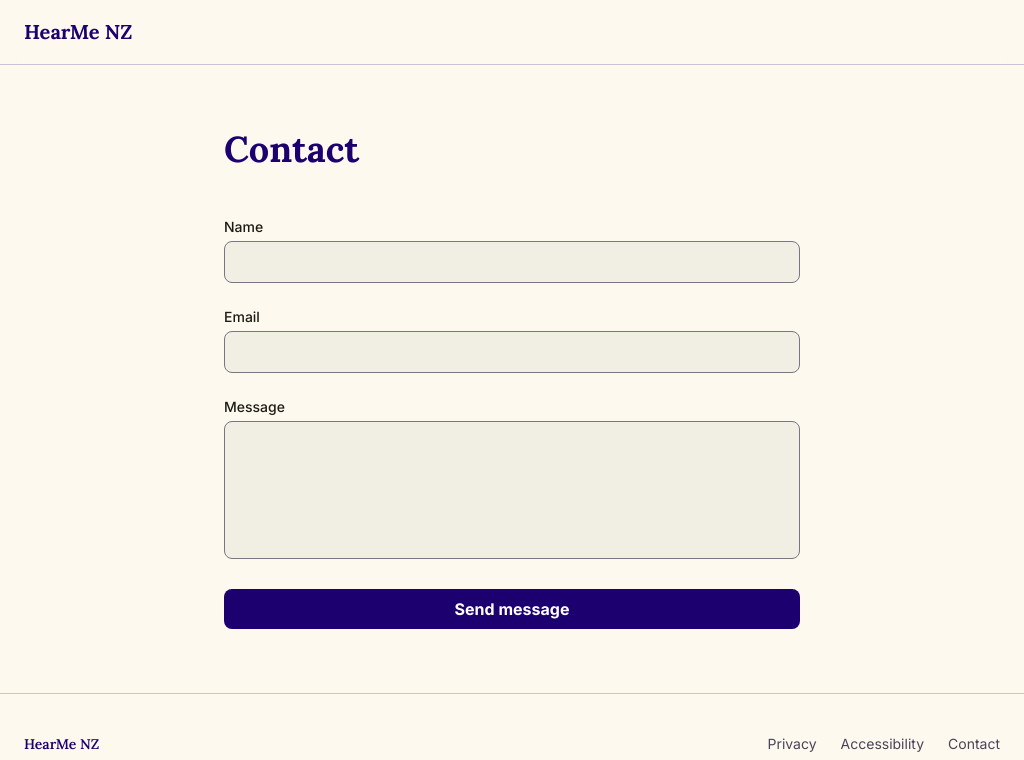
Test case: ContactPage › shows email error for invalid email format
Type "Alice" into the field labelled "Name".
click(512, 262); type("Alice")  # box [224, 241, 800, 283]
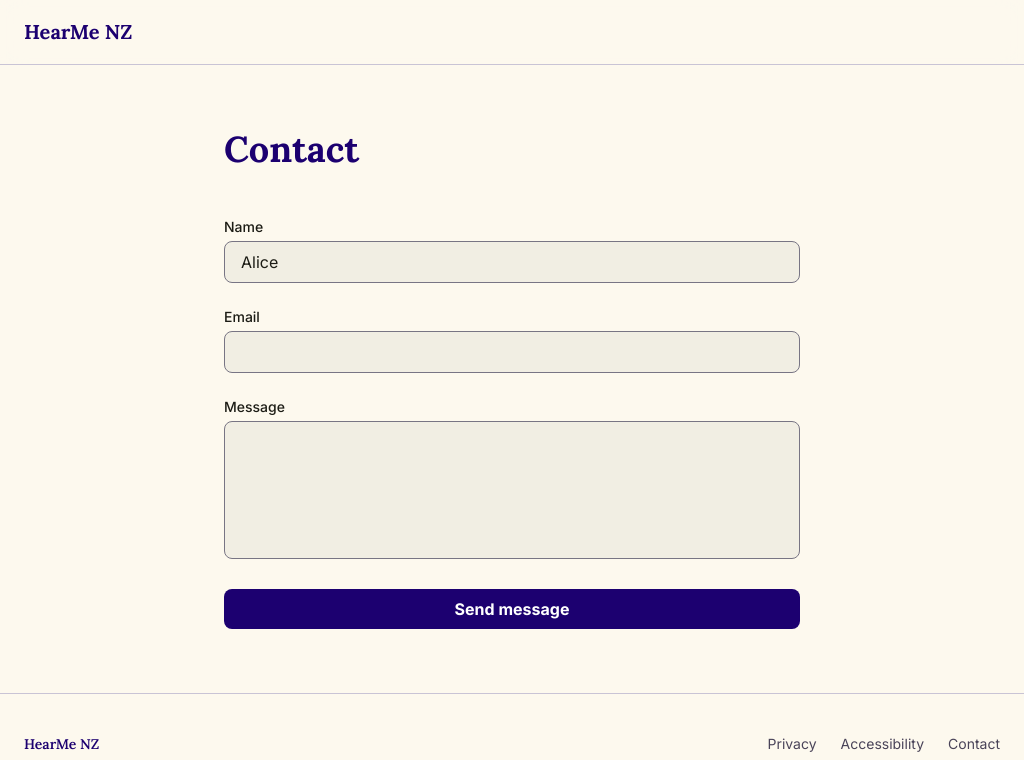
Type "not-an-email" into the field labelled "Email".
click(512, 352); type("not-an-email")  # box [224, 331, 800, 373]
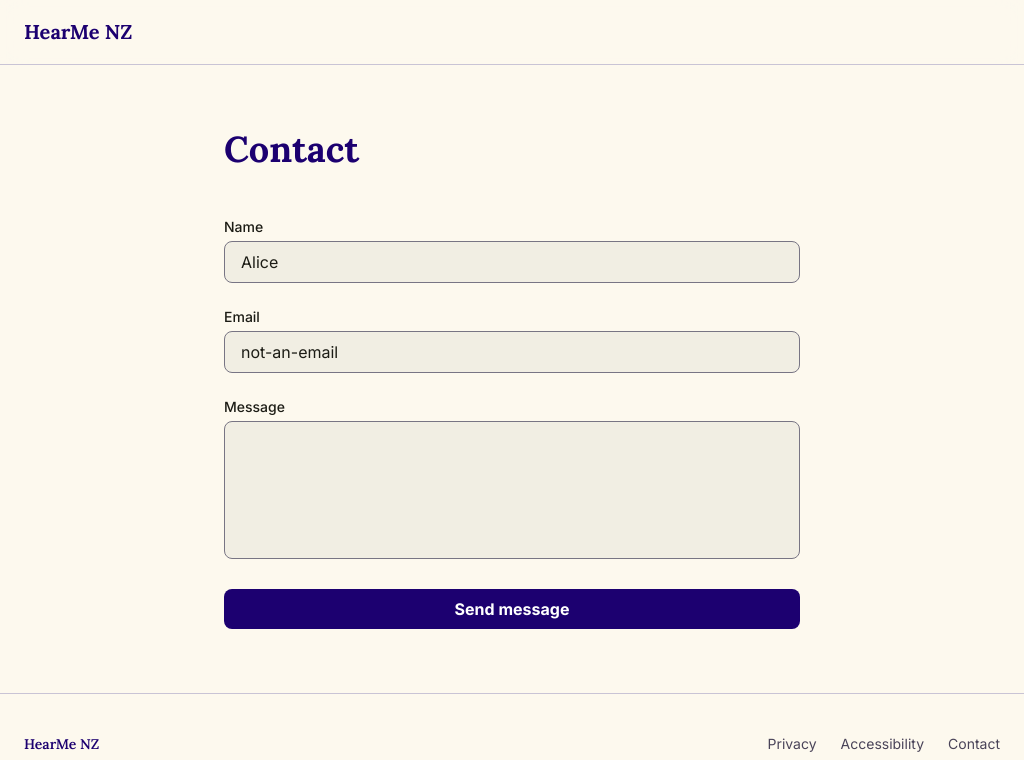
Type "Hello this is a long enough message" into the text box labelled "Message".
click(512, 490); type("Hello this is a long enough message")  # box [224, 421, 800, 559]
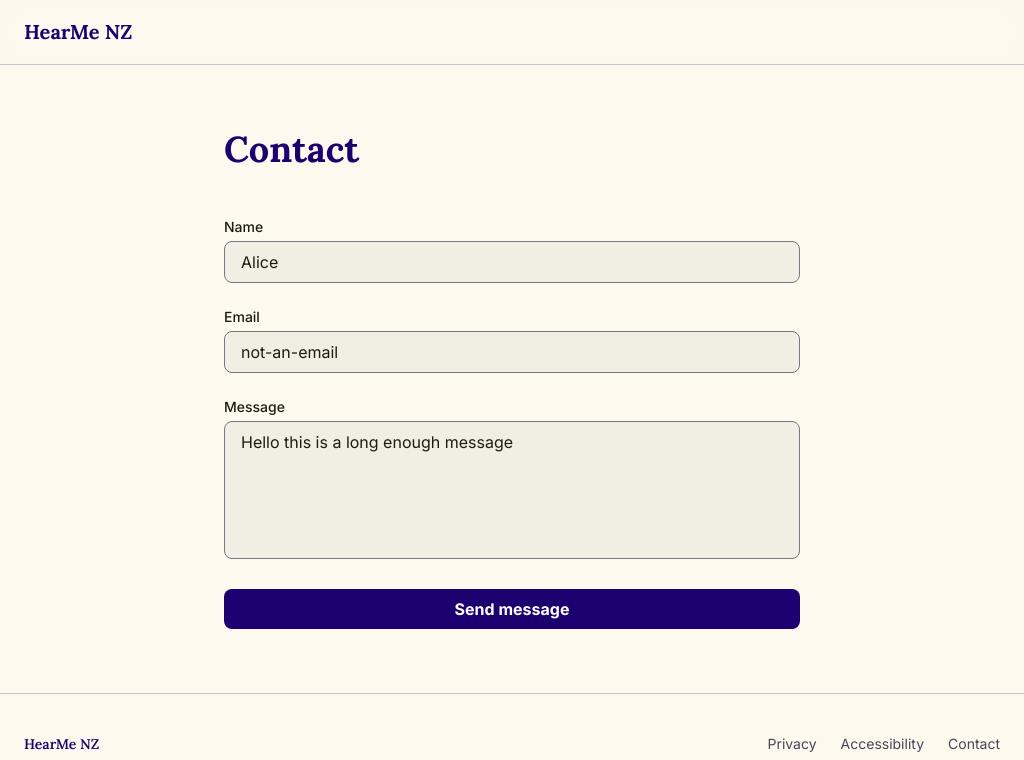
Click the button "Send message".
click(512, 609)  # box [224, 589, 800, 629]
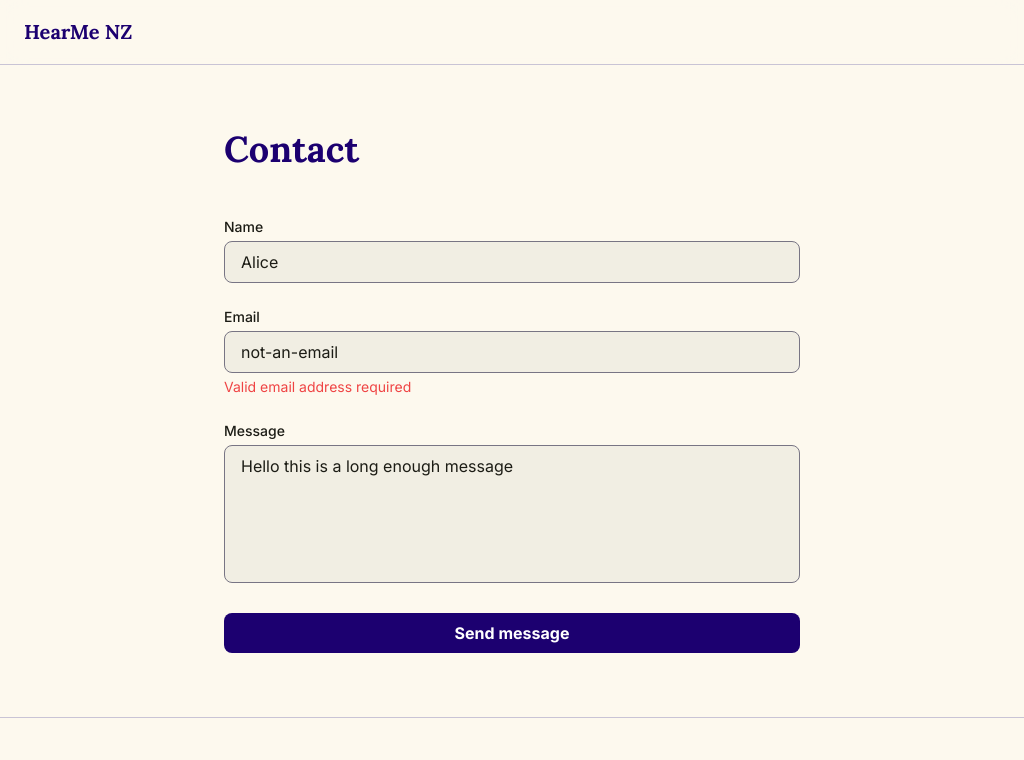
Result: the text "Valid email address required" is shown at [224, 378, 411, 395]
